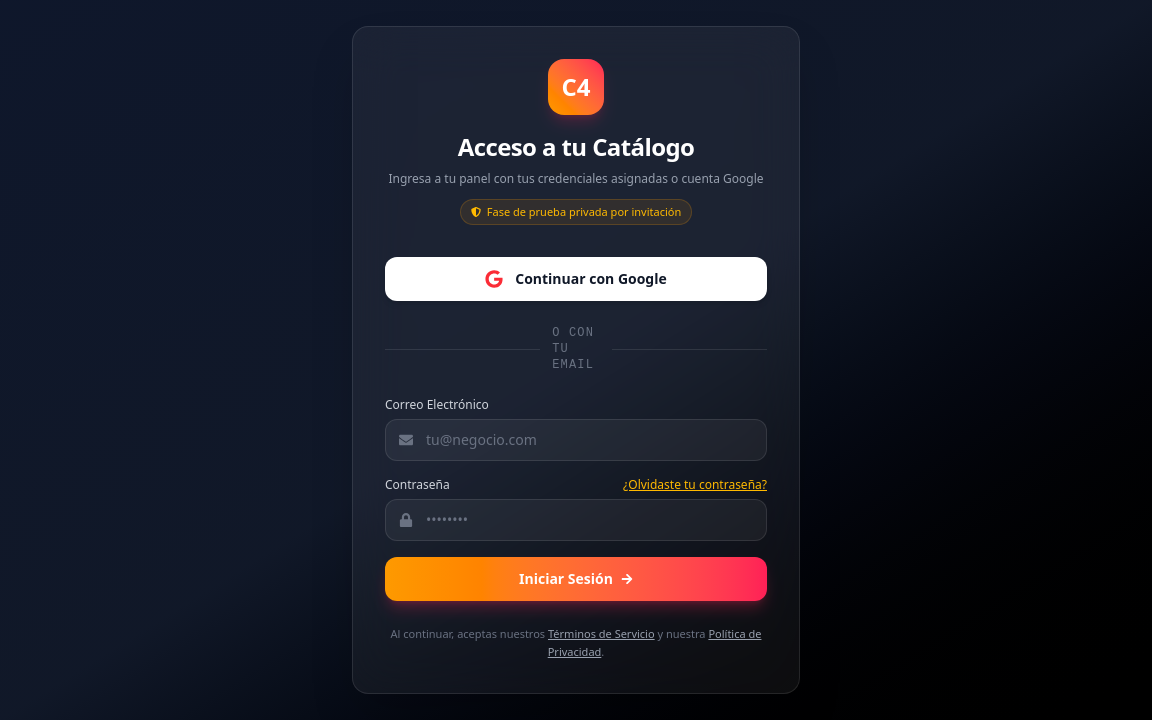
LoginPage password recovery request › switches to forgot mode and calls resetPasswordForEmail with /reset-password/
Later steps or results of the test are not shown.
Step 1. Click the button "¿Olvidaste tu contraseña?" → (695, 485), box x1=623 y1=477 x2=767 y2=493
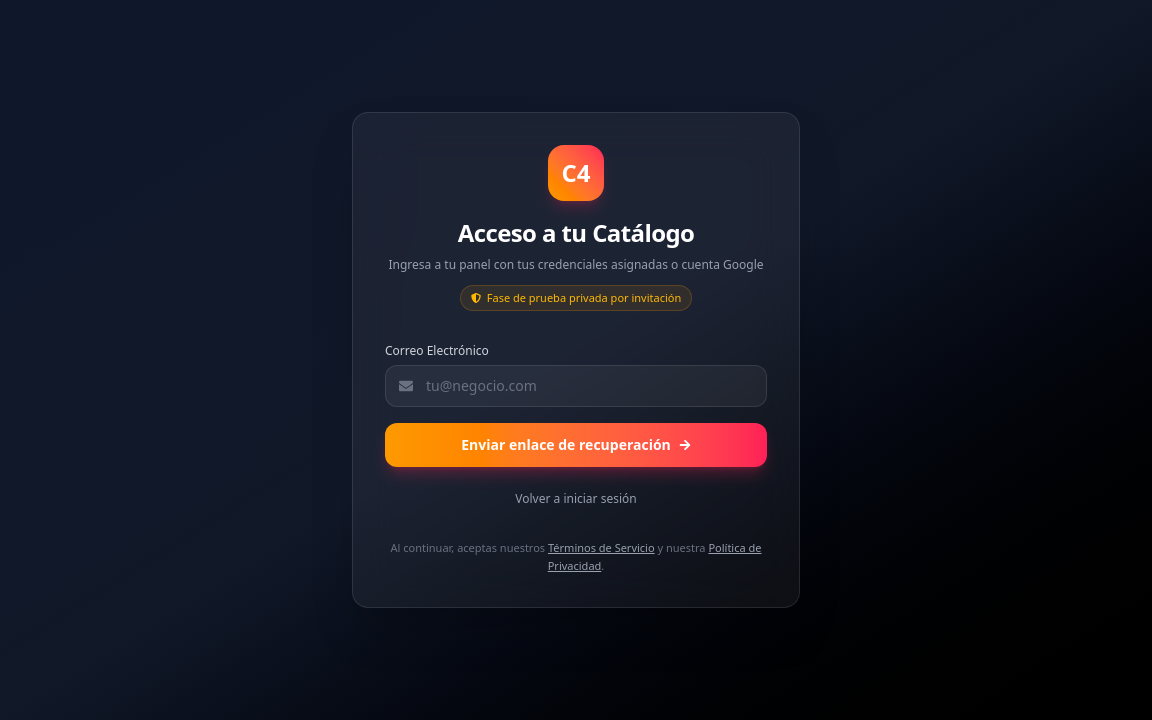
Step 2. Type "tienda@c4talogo.com" into the field with placeholder "tu@negocio.com" → (576, 386), box x1=385 y1=365 x2=767 y2=407
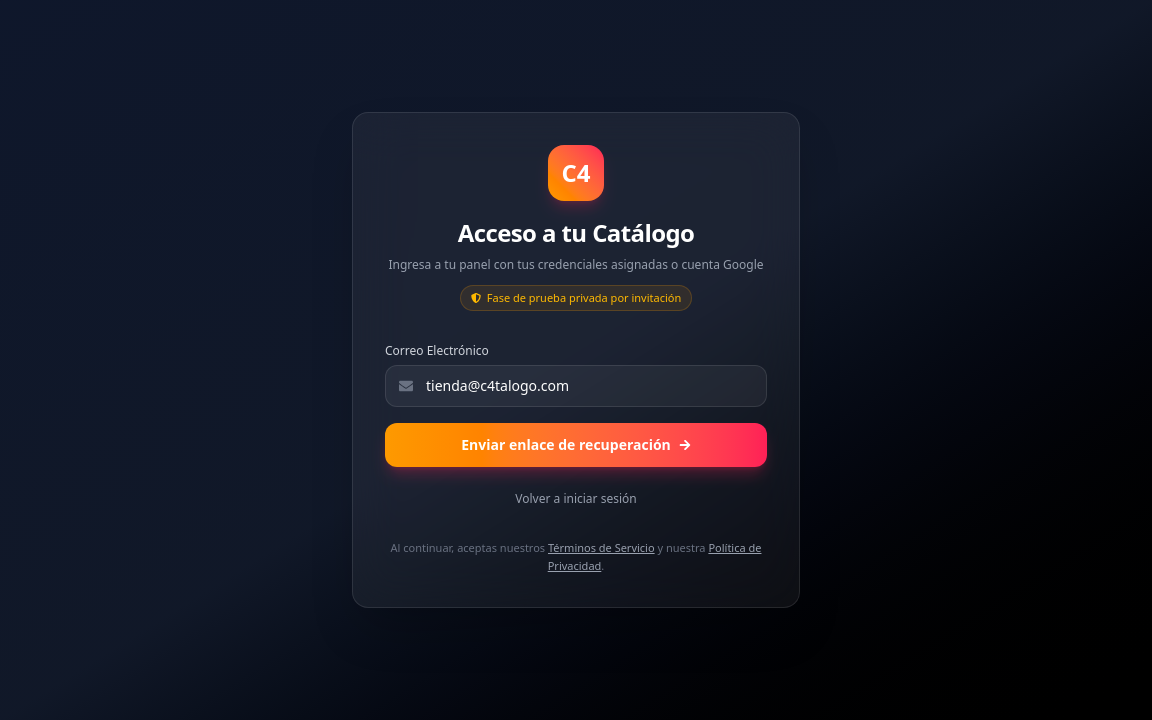
Step 3. Click the button "Enviar enlace de recuperación" → (576, 445), box x1=385 y1=423 x2=767 y2=467
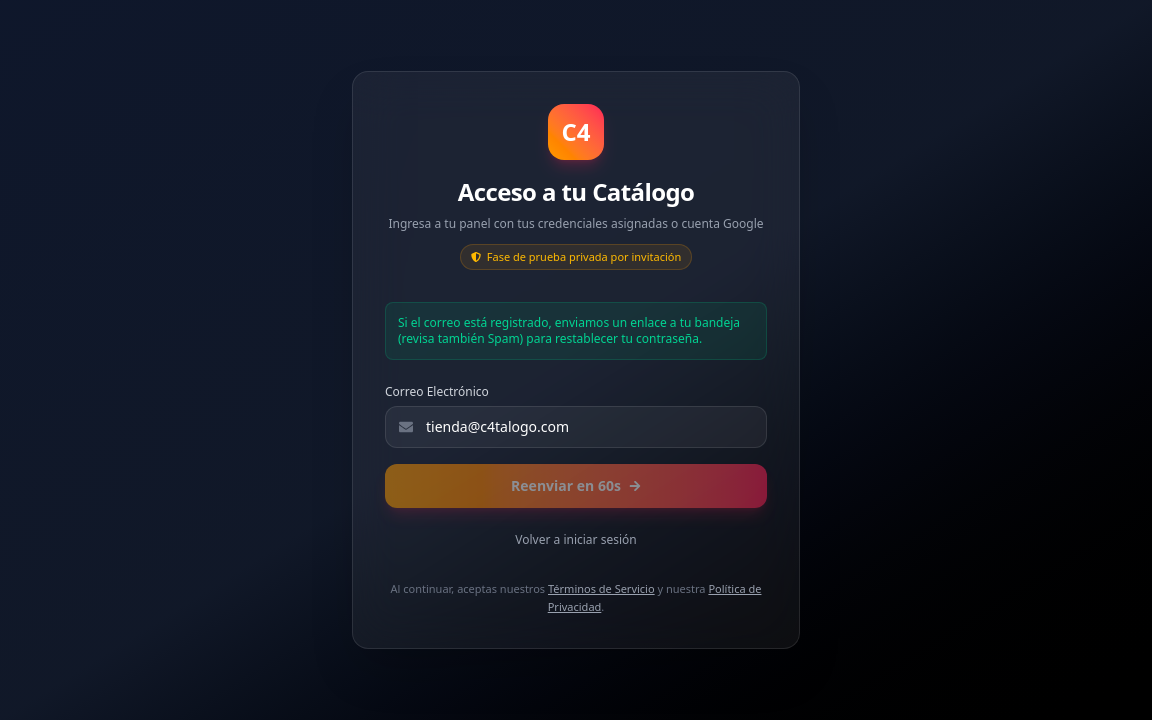
Now the text "enviamos un enlace a tu bandeja" is shown, box x1=398 y1=314 x2=740 y2=347
Now the button "Reenviar en 60s" is disabled, box x1=385 y1=464 x2=767 y2=508
